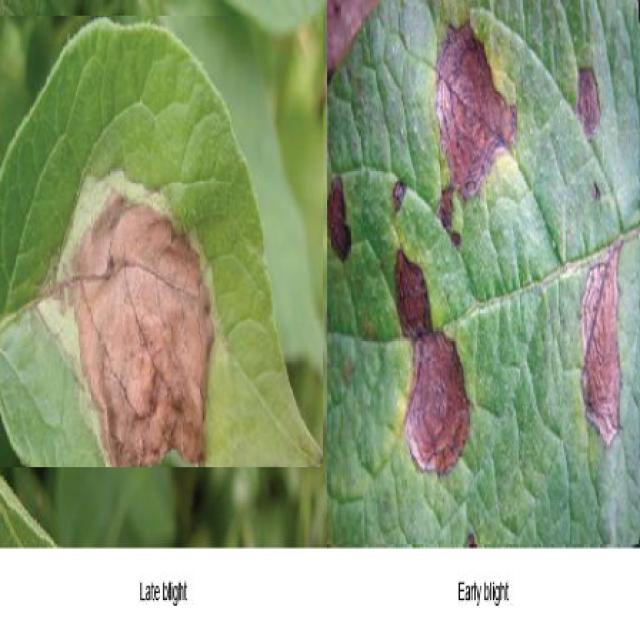Early Blight: (327, 0, 639, 544)
Late Blight: (1, 16, 323, 467)
